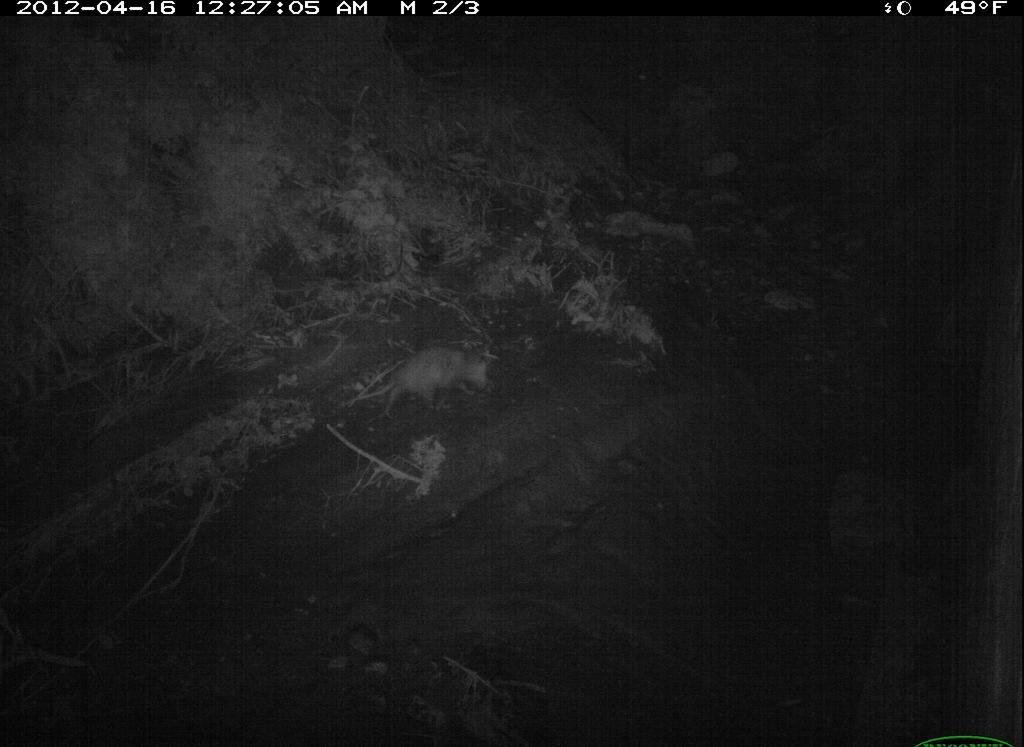opossum: (349, 336, 511, 420)
